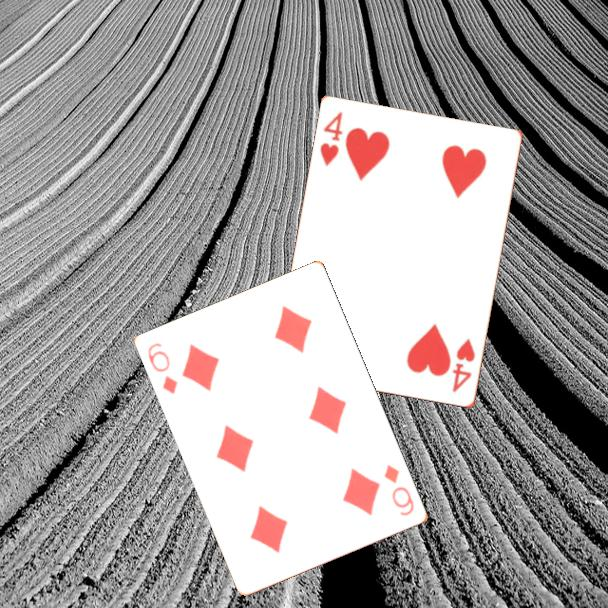d06: (381, 461, 417, 519), (145, 339, 181, 397)
h04: (449, 335, 478, 396), (317, 109, 346, 170)
